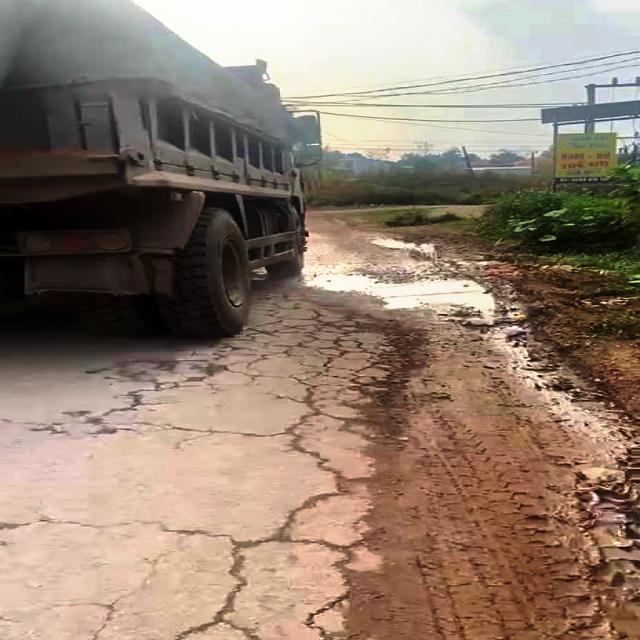pothole: (316, 264, 501, 315)
